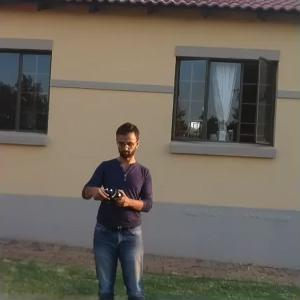follow: (77, 114, 157, 298)
